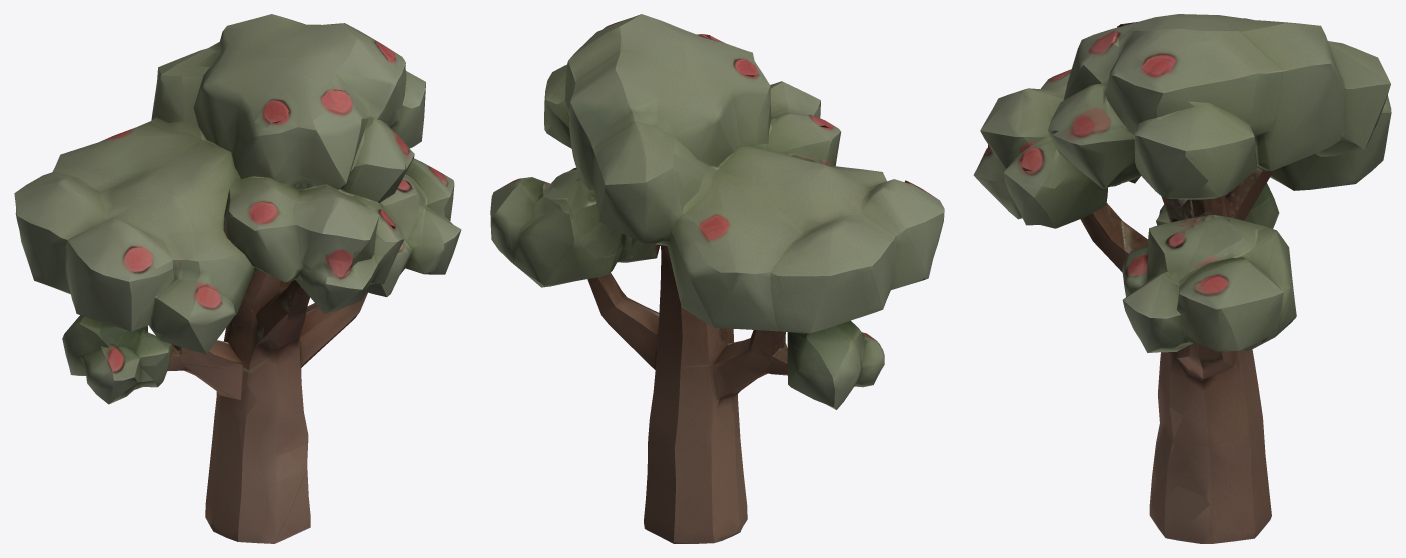
The model's file is OhiaTree.fbx.
3 renders of one model, left to right at view 1: azimuth 30°, elevation 25°; view 2: azimuth 150°, elevation 25°; view 3: azimuth 270°, elevation 25°, orthographic. The views are drawn at different scales.
Parts seen in each view (by area): view 1: input; view 2: input; view 3: input.
Part boxes in pixels (x1,y1,x2,y2): input: (14,14,461,543); input: (490,14,944,543); input: (973,14,1391,543).
Size of the model in its own units: 88.93 by 99.89 by 70.6.
1 material, 1 textured.
